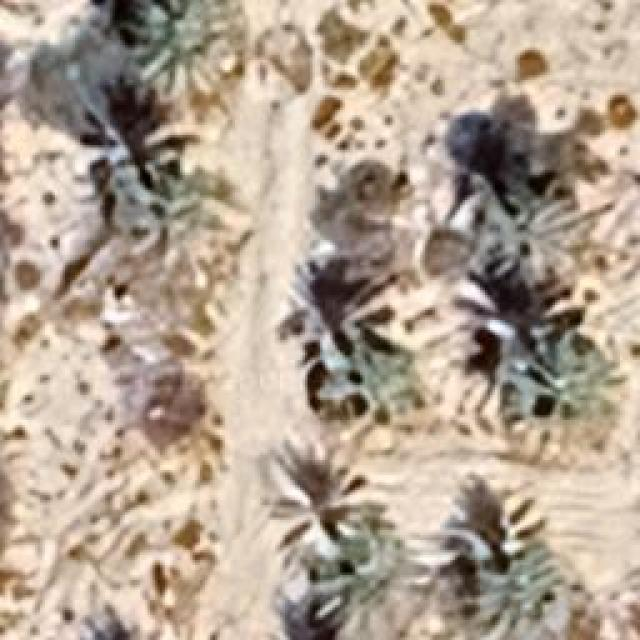PalmTree: (126, 116, 511, 576), (298, 274, 430, 404), (505, 335, 630, 463), (0, 12, 118, 138), (293, 518, 414, 634), (265, 460, 380, 570), (125, 0, 232, 112), (485, 182, 593, 288), (98, 112, 198, 190), (61, 611, 150, 640), (56, 621, 158, 640)
